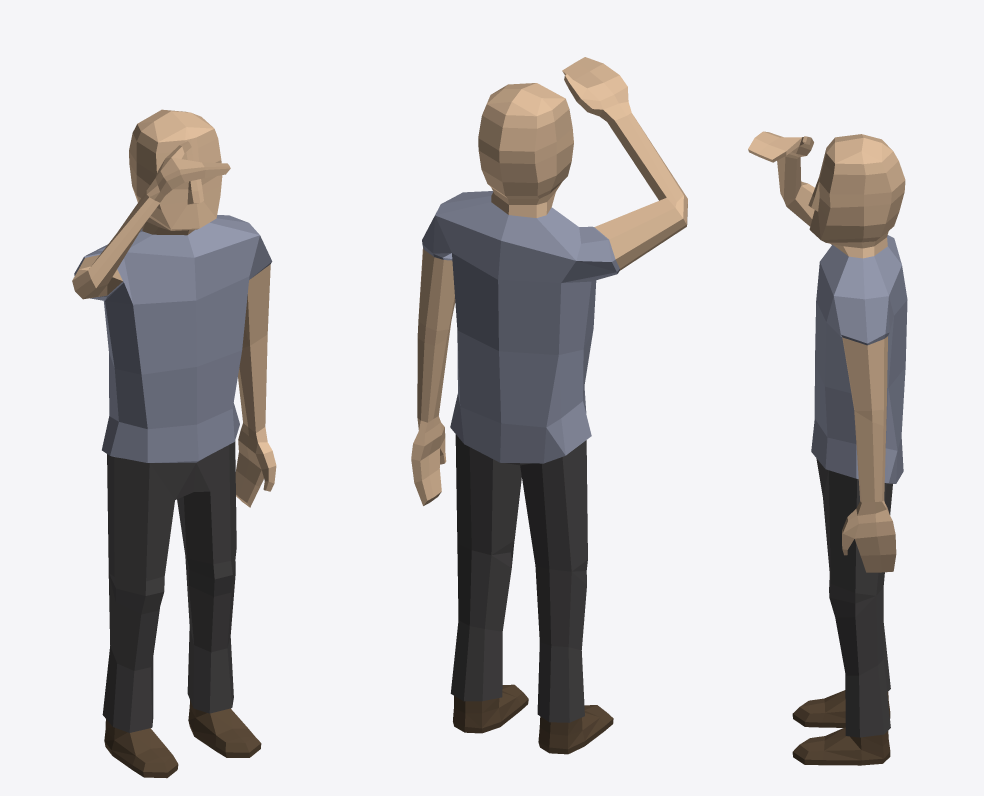
Rendered from male-character-1158.glb.
3 renders of one model, left to right at view 1: azimuth 30°, elevation 25°; view 2: azimuth 150°, elevation 25°; view 3: azimuth 270°, elevation 25°, orthographic. The views are drawn at different scales.
Parts seen in each view (by area): view 1: Male_Standing_CoveringEyes; view 2: Male_Standing_CoveringEyes; view 3: Male_Standing_CoveringEyes.
Part boxes in pixels (box(x1,y1,x2,y2)): Male_Standing_CoveringEyes: box(72, 109, 276, 778); Male_Standing_CoveringEyes: box(411, 57, 687, 754); Male_Standing_CoveringEyes: box(748, 131, 907, 765).
Bounding box in the file's own units: 1.98 × 4.5 × 1.46.
